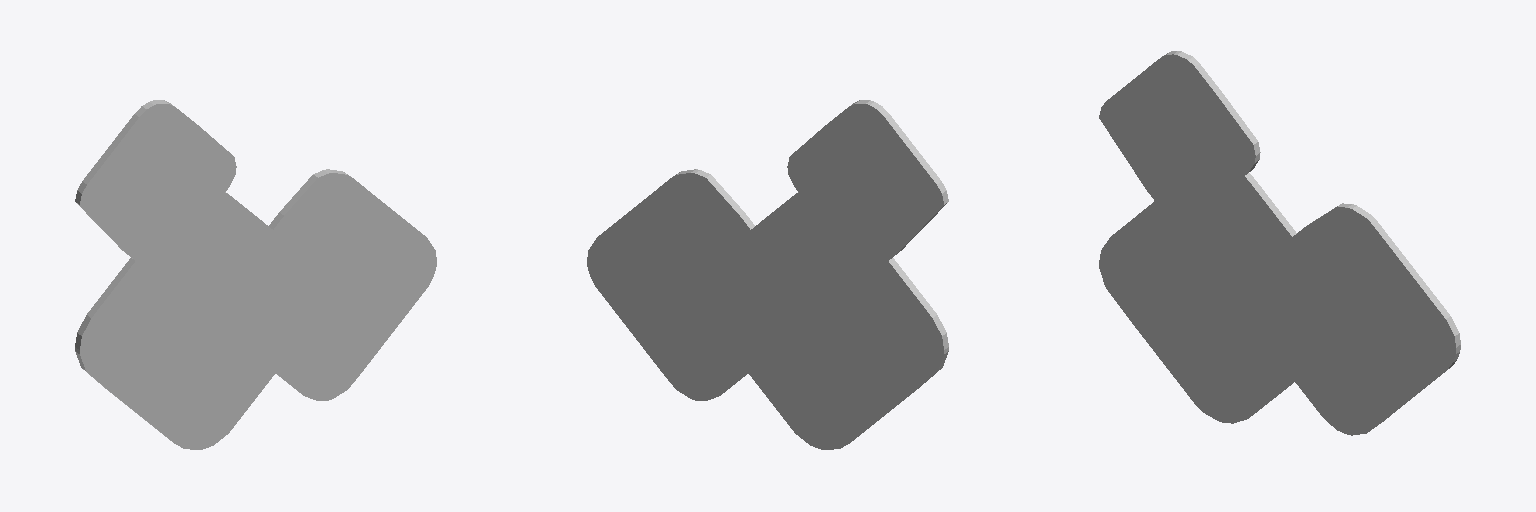
File: Leaf_4.obj
3 renders of one model, left to right at view 1: azimuth 30°, elevation 25°; view 2: azimuth 150°, elevation 25°; view 3: azimuth 330°, elevation 25°, orthographic.
Visible parts, largest first — view 1: Leaf4; view 2: Leaf4; view 3: Leaf4.
Part boxes in pixels (x1,y1,x2,y2): Leaf4: (75,100,436,449); Leaf4: (587,100,948,449); Leaf4: (1099,51,1460,435).
Size of the model in its own units: 46.07 by 43.94 by 1.08.